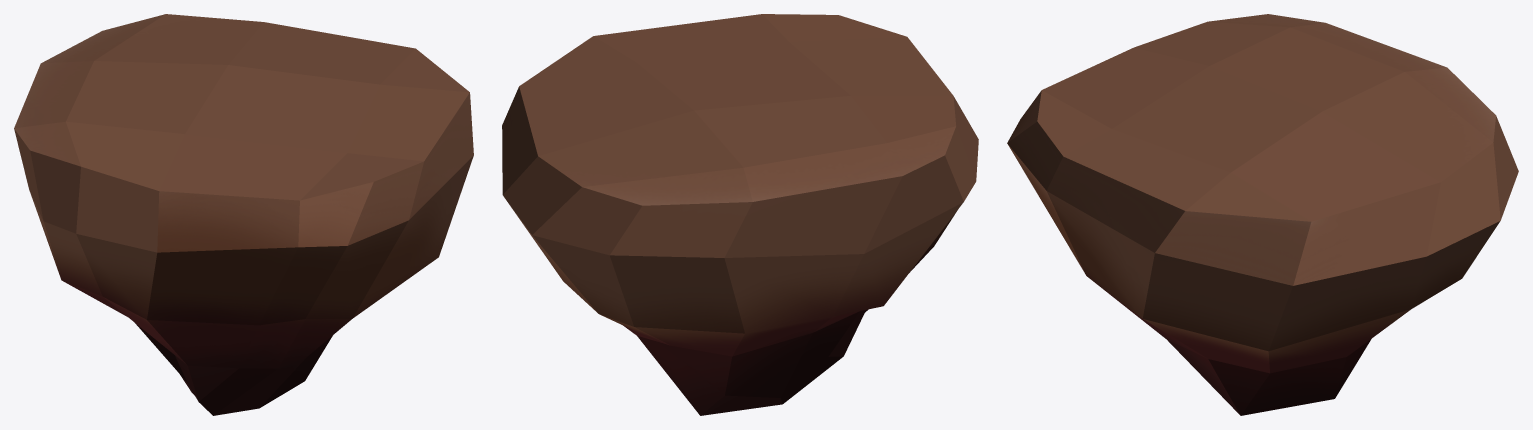
The model's file is platform 1.fbx.
3 views of the same model, side by side, from view 1: azimuth 30°, elevation 25°; view 2: azimuth 150°, elevation 25°; view 3: azimuth 270°, elevation 25° (orthographic). The views are drawn at different scales.
Visible parts, largest first — view 1: pCube61; view 2: pCube61; view 3: pCube61.
Boxes of the visible parts, bbox=[...] form: pCube61: bbox=[14, 14, 473, 415]; pCube61: bbox=[502, 14, 978, 415]; pCube61: bbox=[1007, 14, 1518, 415].
Size of the model in its own units: 11.56 by 7.86 by 11.99.
Materials: 1 (1 with a texture image).
